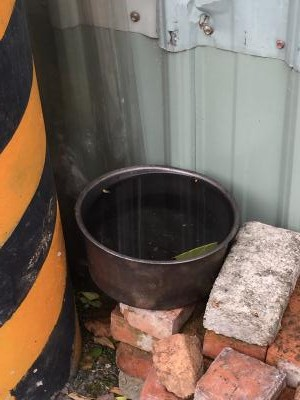bowl: (72, 162, 243, 314)
